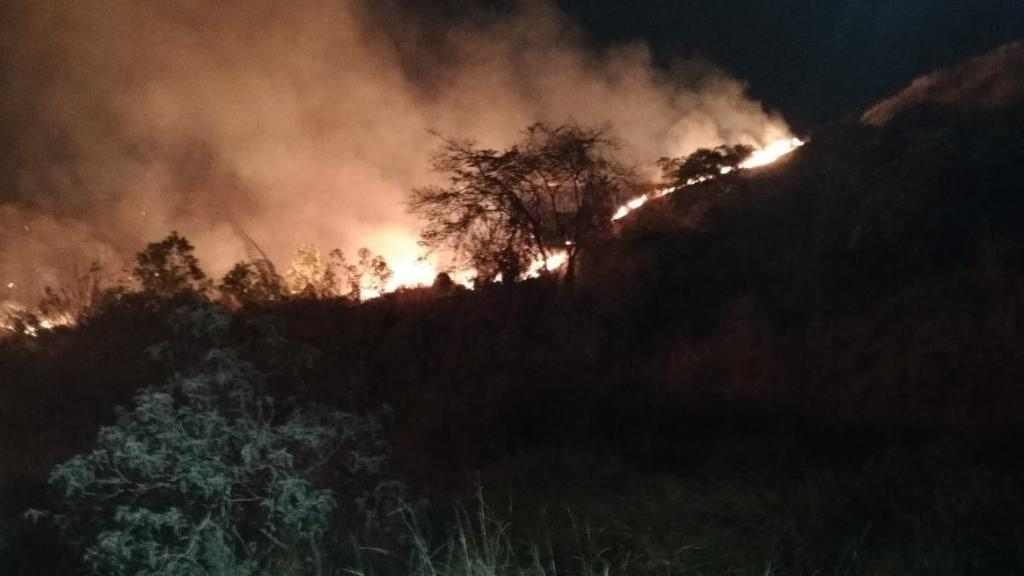fire: (599, 116, 806, 219), (356, 233, 572, 301), (3, 303, 82, 336)
